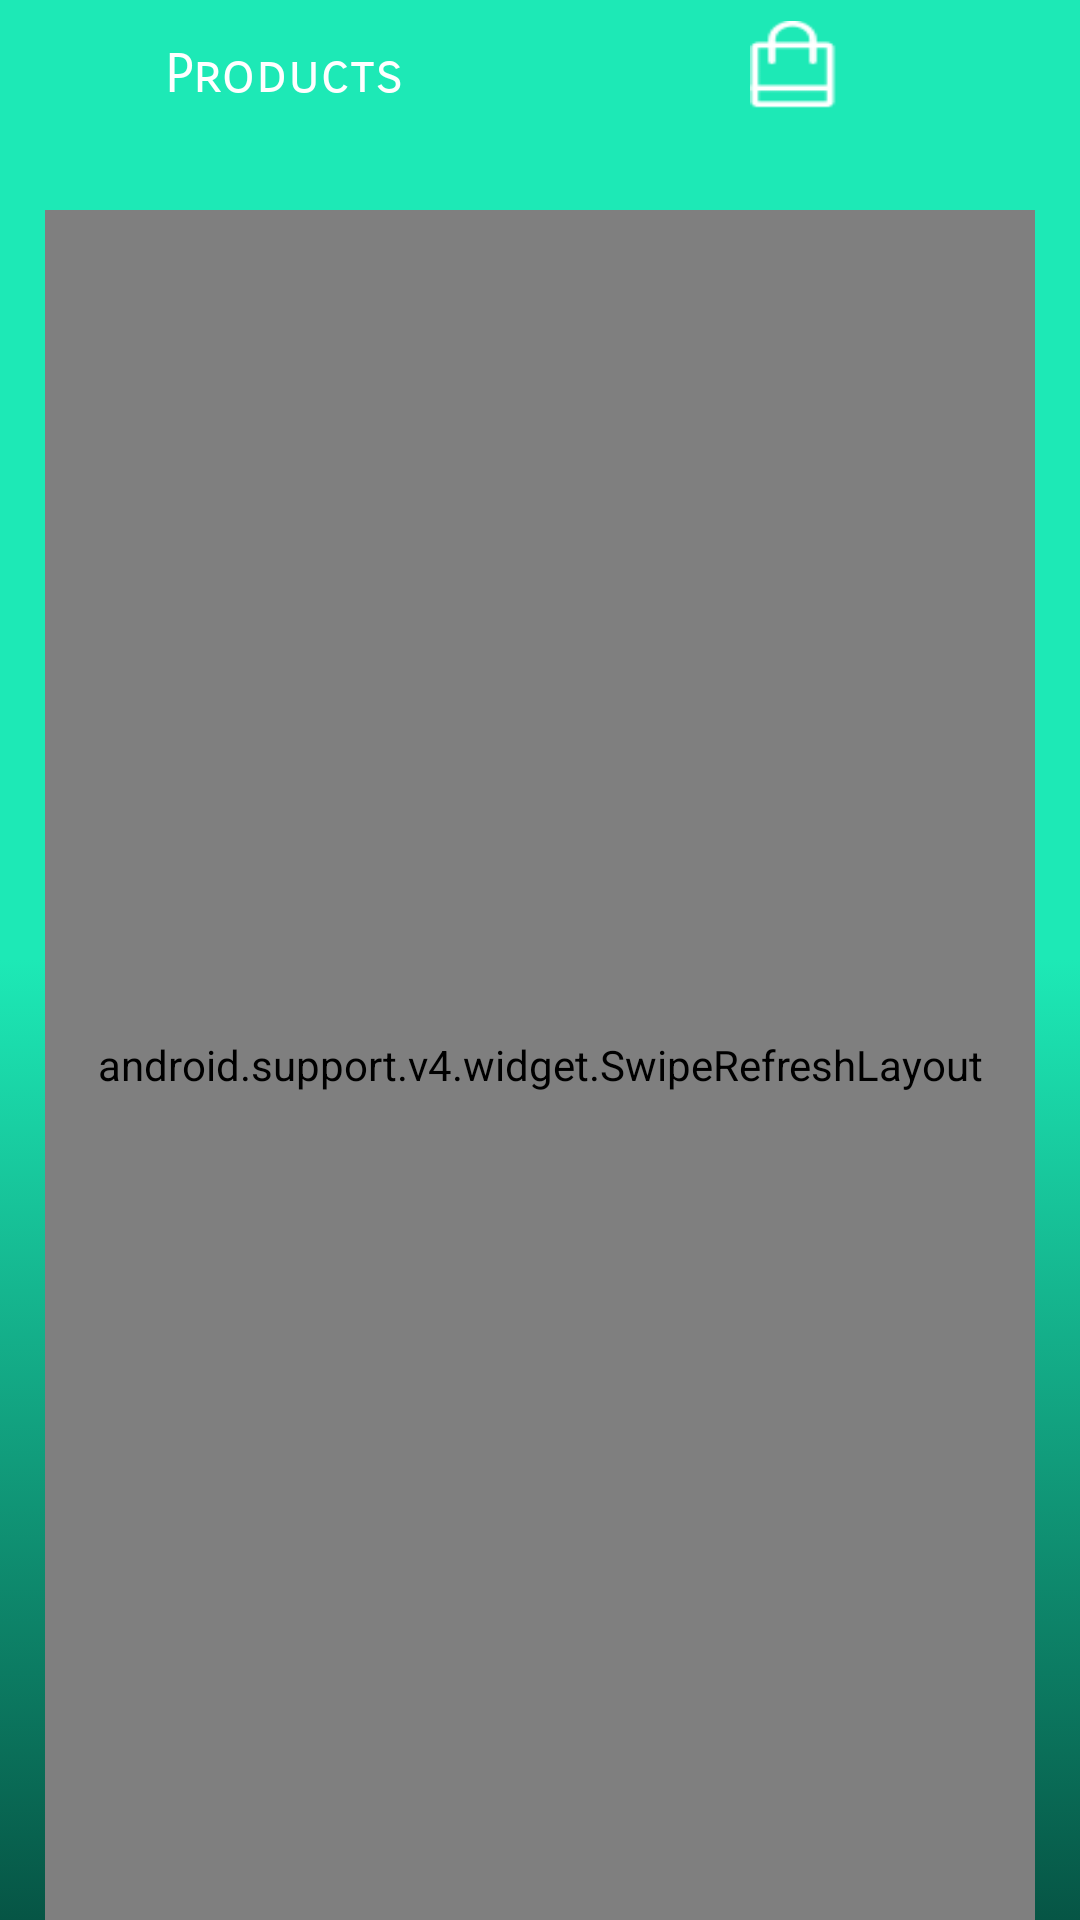

Named icons in this screenshot (1080*1920) and their centers, point (x, y):
storeicon: point (793, 64)
